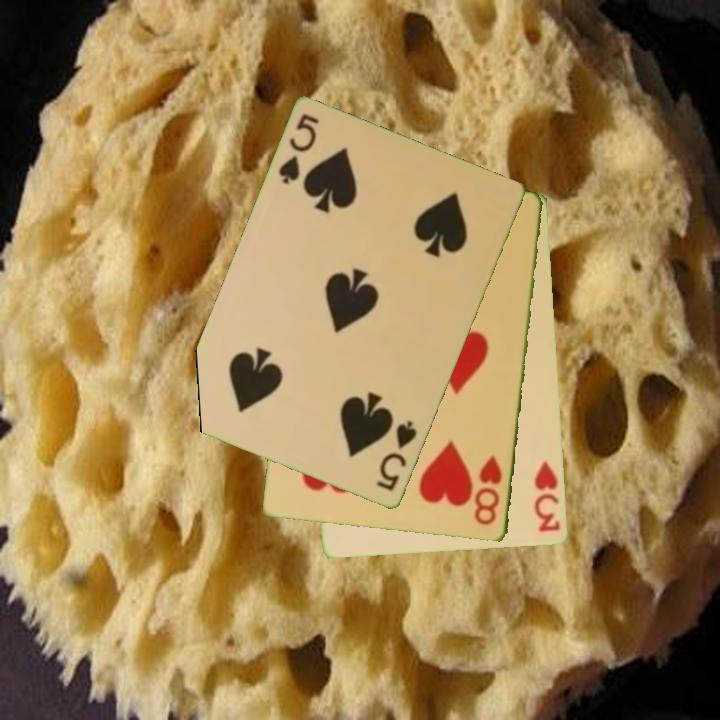3h: (531, 458, 563, 536)
5s: (372, 417, 420, 495), (275, 111, 323, 188)
8h: (472, 452, 506, 529)
